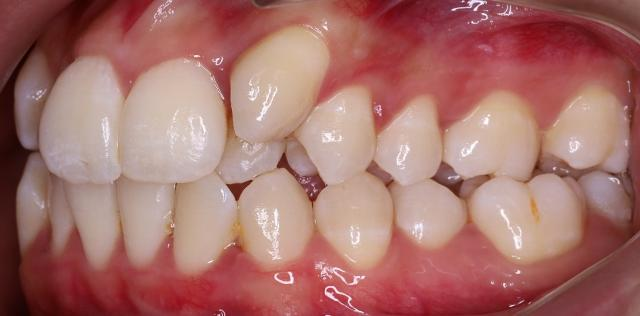canine class II 3/4: (210, 6, 394, 280)
molar class II full class: (438, 69, 588, 267)
